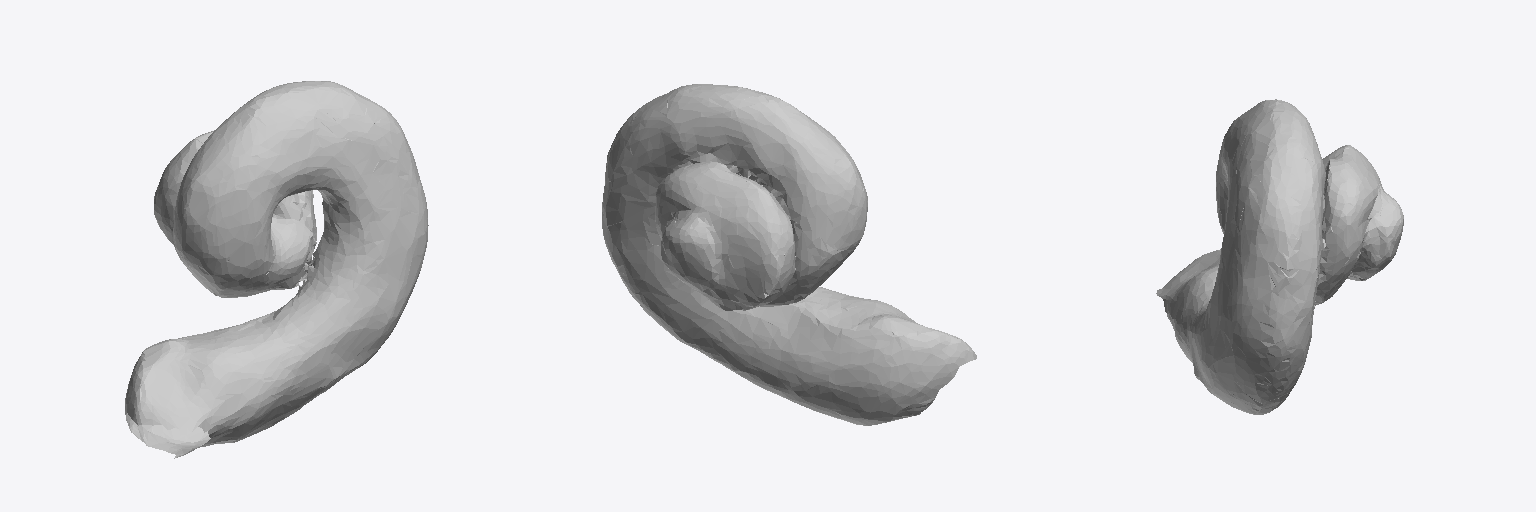
File: cochleeCompleteTroueeSimpleOrientationMegaTrouTransformed.obj
3 renders of one model, left to right at view 1: azimuth 30°, elevation 25°; view 2: azimuth 150°, elevation 25°; view 3: azimuth 270°, elevation 25°, orthographic.
Parts seen in each view (by area): view 1: 1_VisualModel; view 2: 1_VisualModel; view 3: 1_VisualModel.
Boxes of the visible parts, box(x1,y1,x2,y2) form: 1_VisualModel: box(125, 81, 428, 458); 1_VisualModel: box(602, 84, 976, 425); 1_VisualModel: box(1156, 99, 1403, 414).
Size of the model in its own units: 88.15 by 81.55 by 57.53.